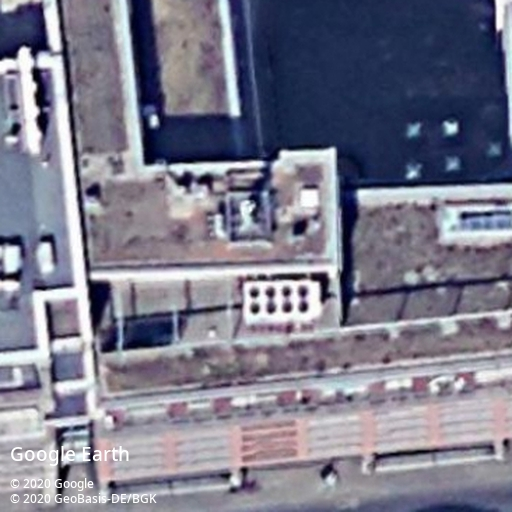Chiller: (243, 280, 321, 323)
